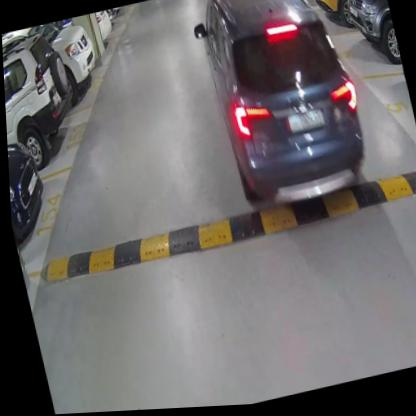np: (282, 106, 326, 138)
